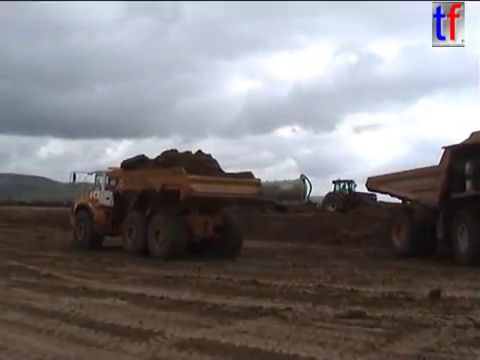truck: (65, 164, 264, 260), (363, 127, 480, 268), (222, 171, 379, 216)
